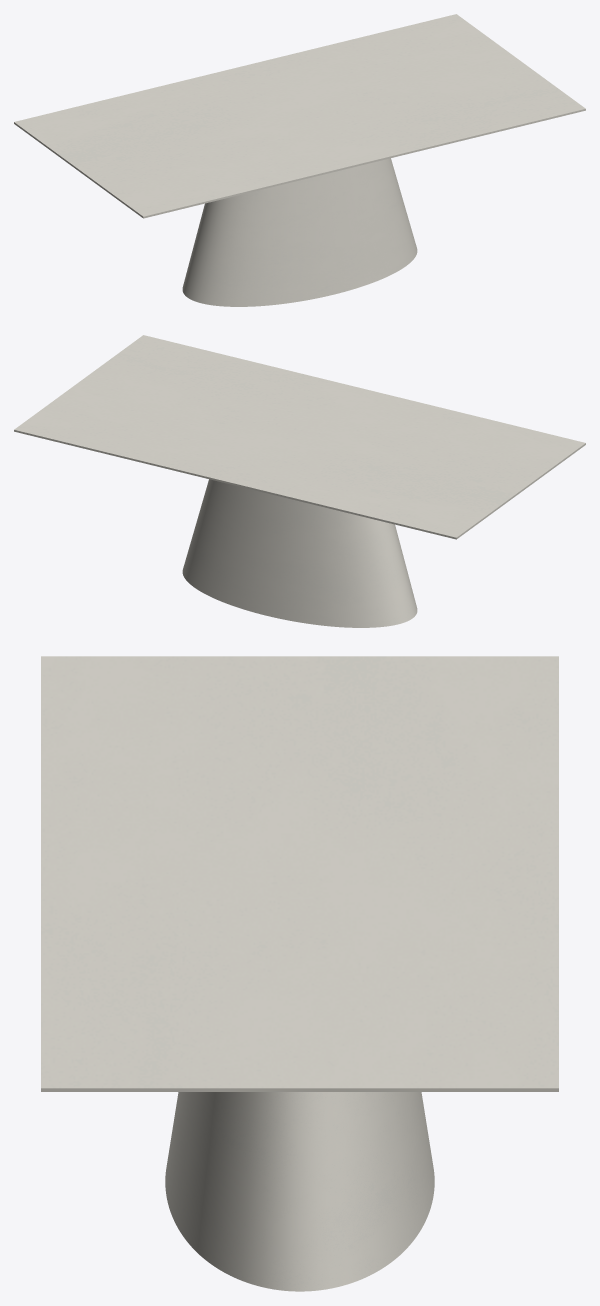
Rendered from pale_recta_facet_eqone.glb.
3 renders of one model, top to bottom at view 1: azimuth 30°, elevation 25°; view 2: azimuth 150°, elevation 25°; view 3: azimuth 270°, elevation 25°, orthographic. The views are drawn at different scales.
Parts seen in each view (by area): view 1: facet_recta, eqone; view 2: facet_recta, eqone; view 3: facet_recta, eqone.
Boxes of the visible parts, x1,y1,x2,y2 form: facet_recta: (14, 14, 585, 218); eqone: (182, 158, 417, 306); facet_recta: (14, 335, 585, 539); eqone: (182, 479, 417, 627); facet_recta: (41, 656, 558, 1091); eqone: (165, 1092, 434, 1291).
Size of the model in its own units: 7.5 by 2.51 by 3.8.
1 material, 1 textured.
